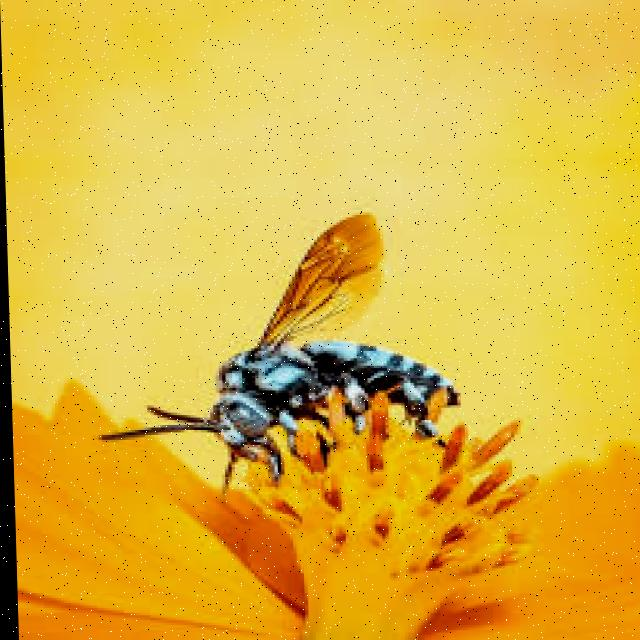Thyreus: (87, 206, 511, 470)
